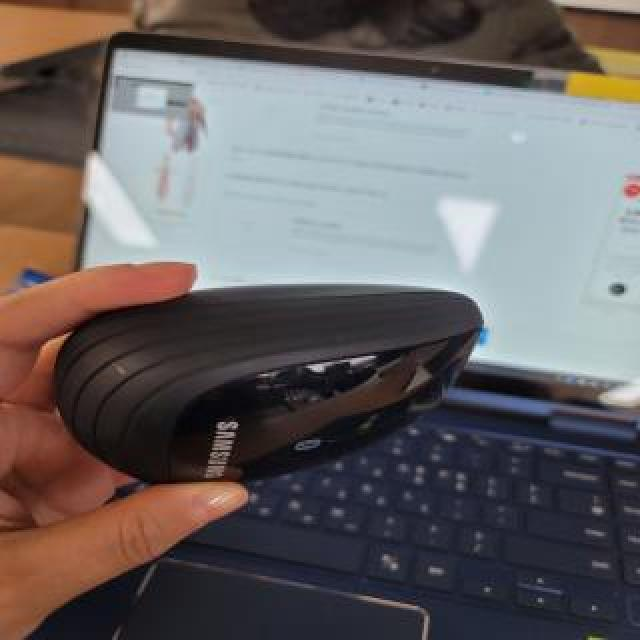laptop_computer: (59, 25, 640, 636)
mouse: (49, 275, 471, 480)
